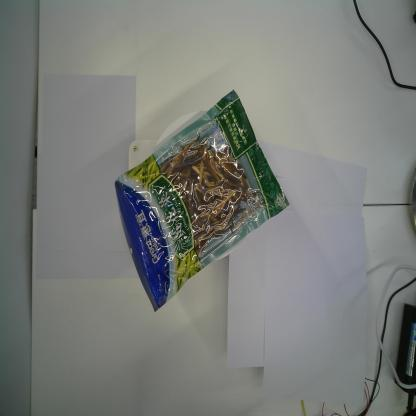Dried Food: (113, 90, 291, 310)
